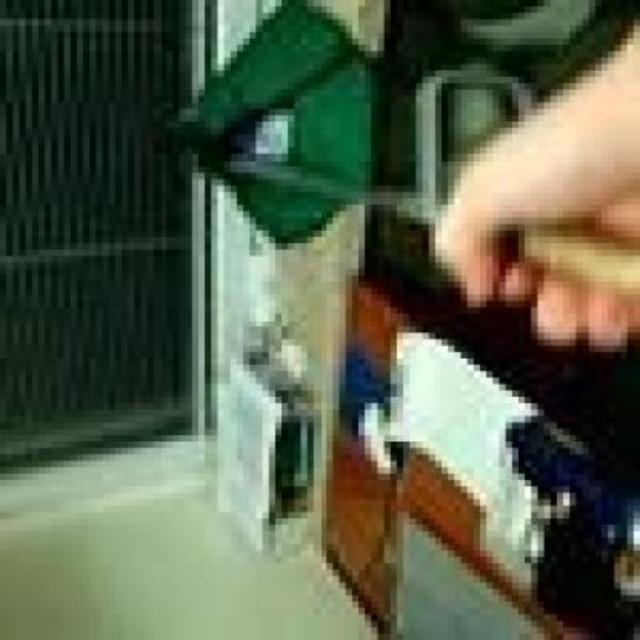Knife: (234, 160, 634, 294)
